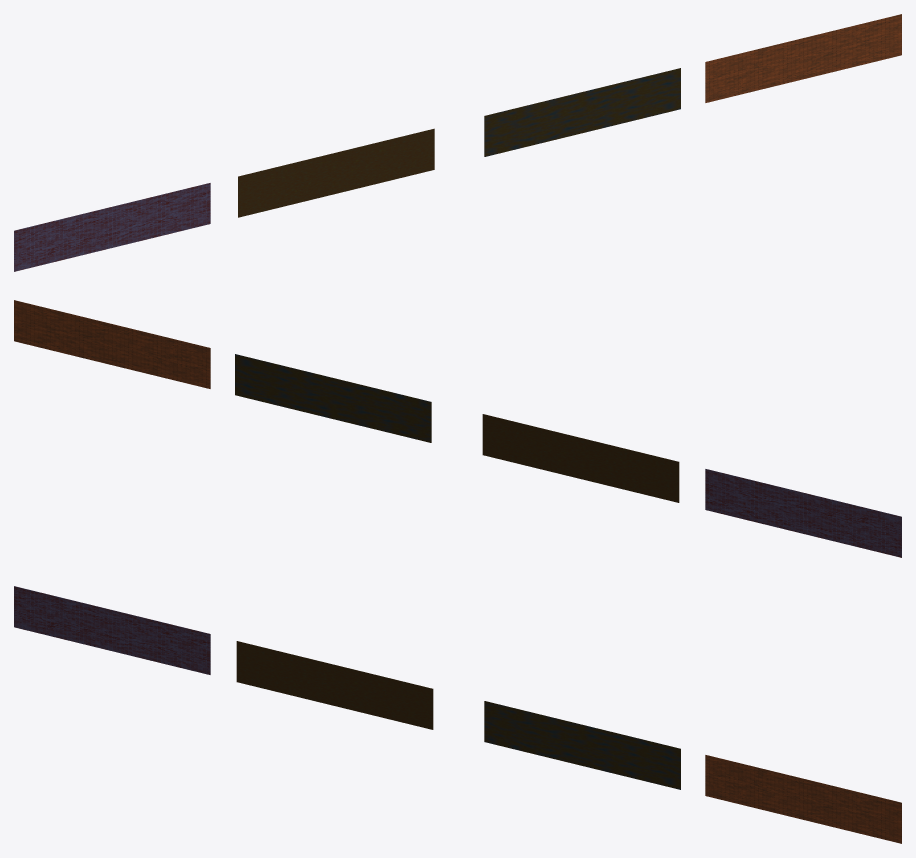
File: WallLong.fbx
The picture shows the model from 3 angles, top to bottom: view 1: azimuth 30°, elevation 25°; view 2: azimuth 150°, elevation 25°; view 3: azimuth 330°, elevation 25°; orthographic projection.
Visible parts, largest first — view 1: BioshockWallLong, BronzWallLong, BrickWallLong, WaterWallLong; view 2: BronzWallLong, BioshockWallLong, BrickWallLong, WaterWallLong; view 3: BronzWallLong, BioshockWallLong, BrickWallLong, WaterWallLong.
Part boxes in pixels (box(x1,y1,x2,y2)): BioshockWallLong: box(484, 68, 680, 156); BronzWallLong: box(238, 128, 434, 217); BrickWallLong: box(705, 14, 901, 102); WaterWallLong: box(14, 183, 210, 271); BronzWallLong: box(482, 414, 679, 502); BioshockWallLong: box(235, 354, 431, 442); BrickWallLong: box(14, 300, 210, 388); WaterWallLong: box(705, 469, 901, 557); BronzWallLong: box(236, 641, 433, 729); BioshockWallLong: box(484, 701, 680, 789); BrickWallLong: box(705, 755, 901, 843); WaterWallLong: box(14, 586, 210, 674).
Bounding box in the file's own units: 181 × 8 × 0.2267.
